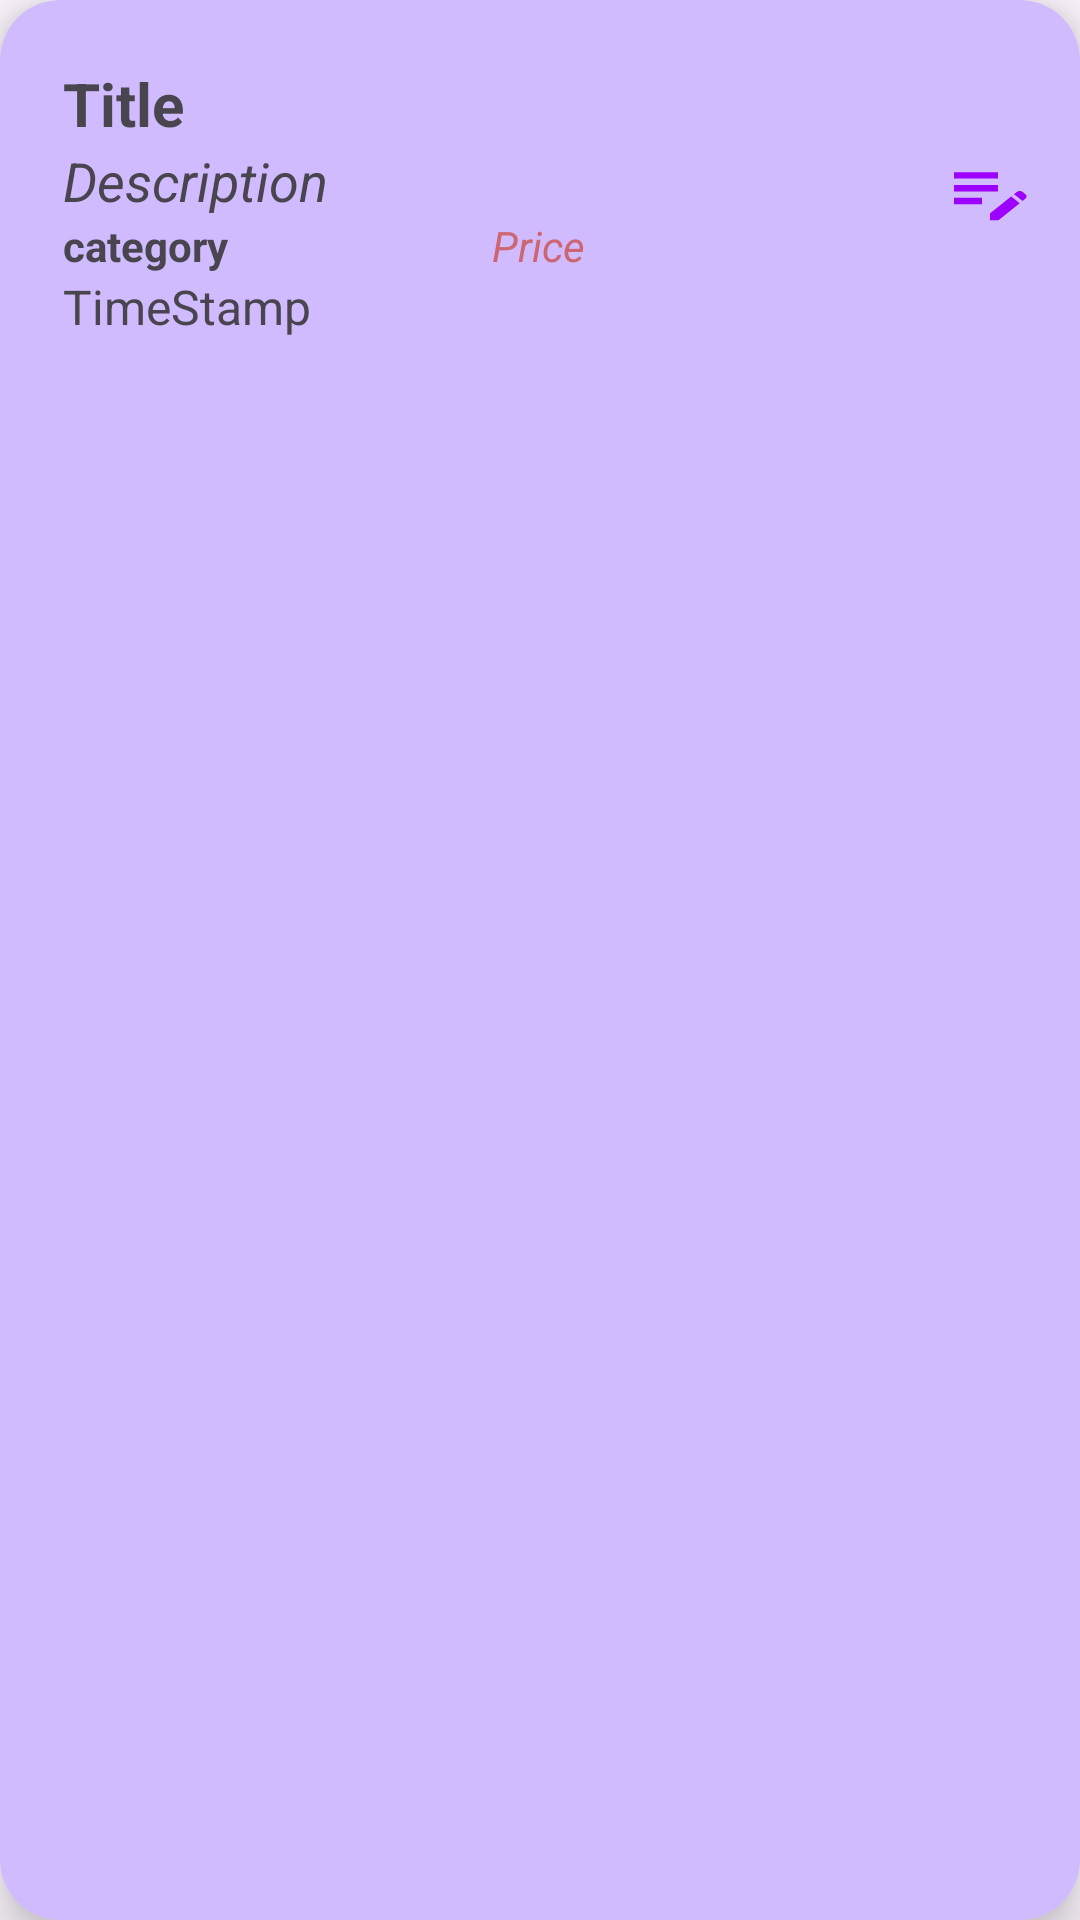

Icon bounding boxes for this 1080px×1920px phone screenshot, format (x1, y1, x2, y2):
editnote: (954, 172, 1027, 221)
